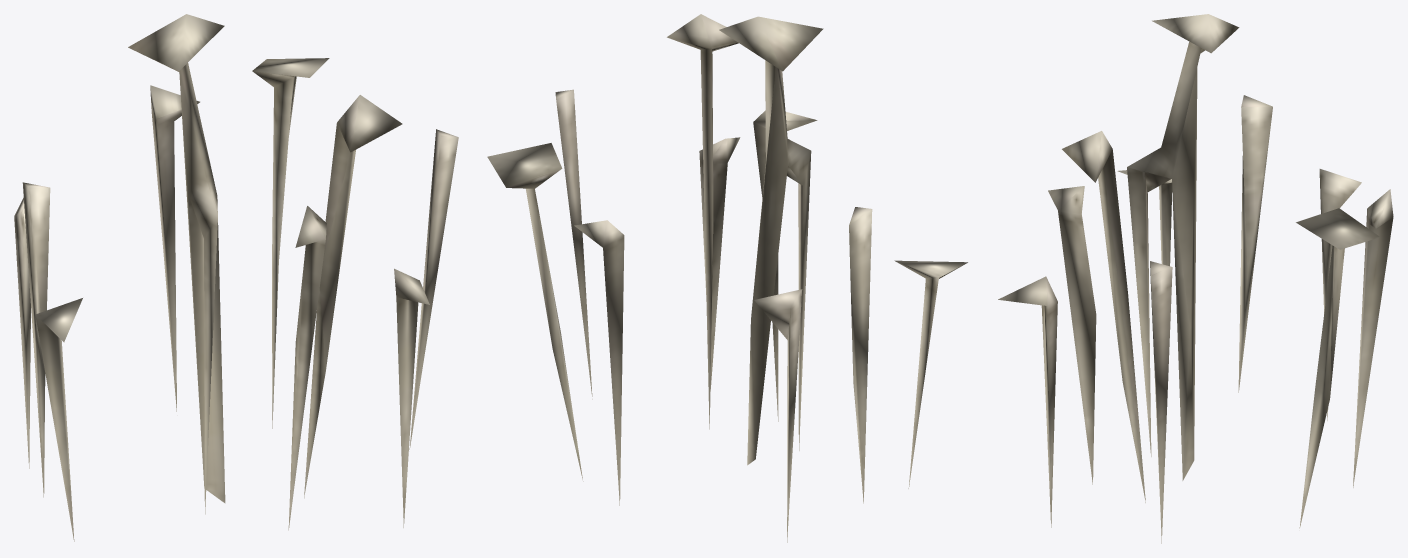
Rendered from mushgrass_a_far.glb.
3 views of the same model, side by side, from view 1: azimuth 30°, elevation 25°; view 2: azimuth 150°, elevation 25°; view 3: azimuth 270°, elevation 25° (orthographic). The views are drawn at different scales.
Parts seen in each view (by area): view 1: mushgrass; view 2: mushgrass; view 3: mushgrass.
Boxes of the visible parts, bbox=[...] form: mushgrass: bbox=[14, 14, 458, 541]; mushgrass: bbox=[487, 14, 967, 542]; mushgrass: bbox=[998, 14, 1393, 543].
Bounding box in the file's own units: 0.1328 × 0.1491 × 0.1174.
Materials: 1 (1 with a texture image).
